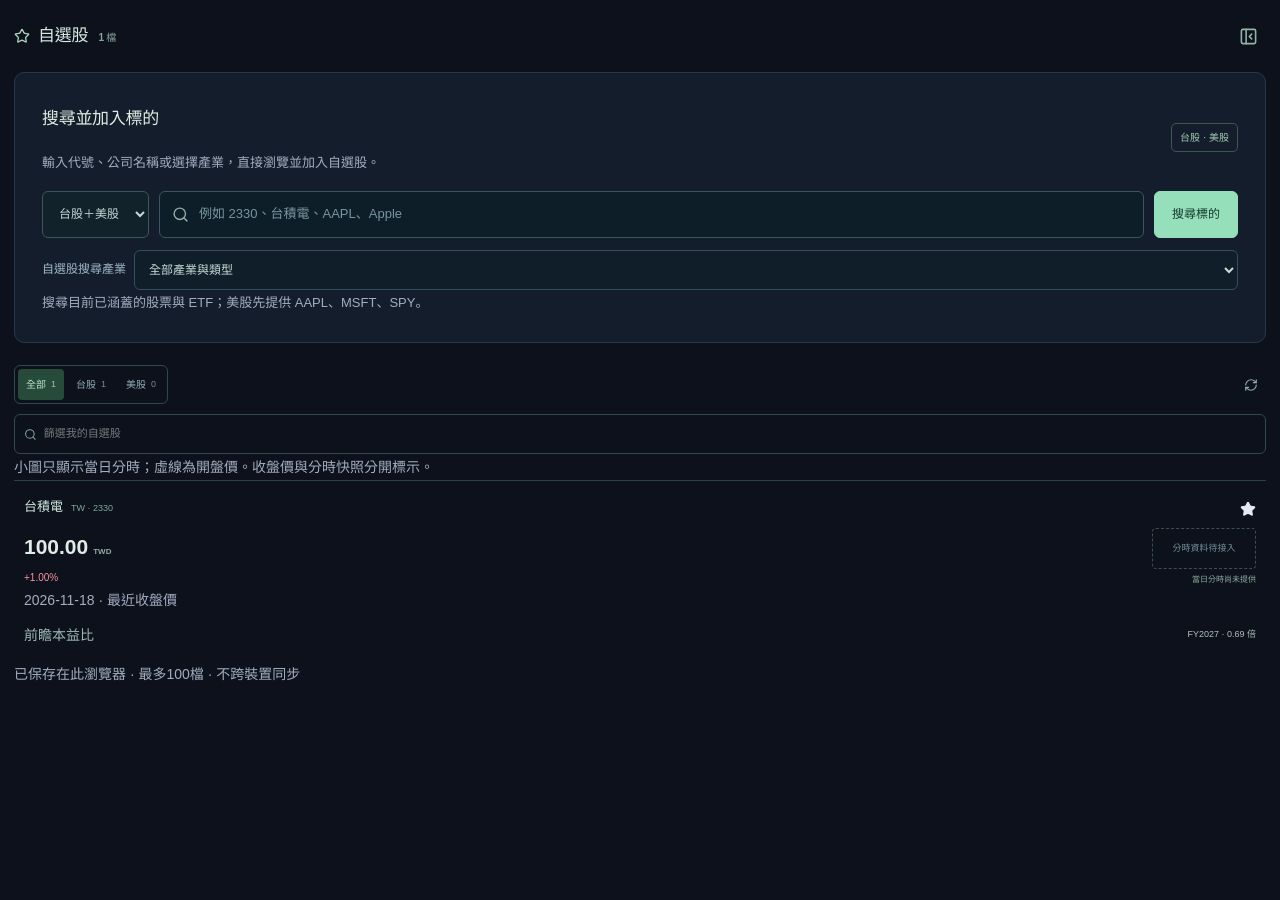
keeps original dates and visible items when a refresh fails
The width and height of the screenshot is (1280, 900).
What coordinates should you click on to do the following:
click the button named "重新整理自選股資料"
I would click on:
 (1251, 385)
Its box is [1236,371,1266,399].
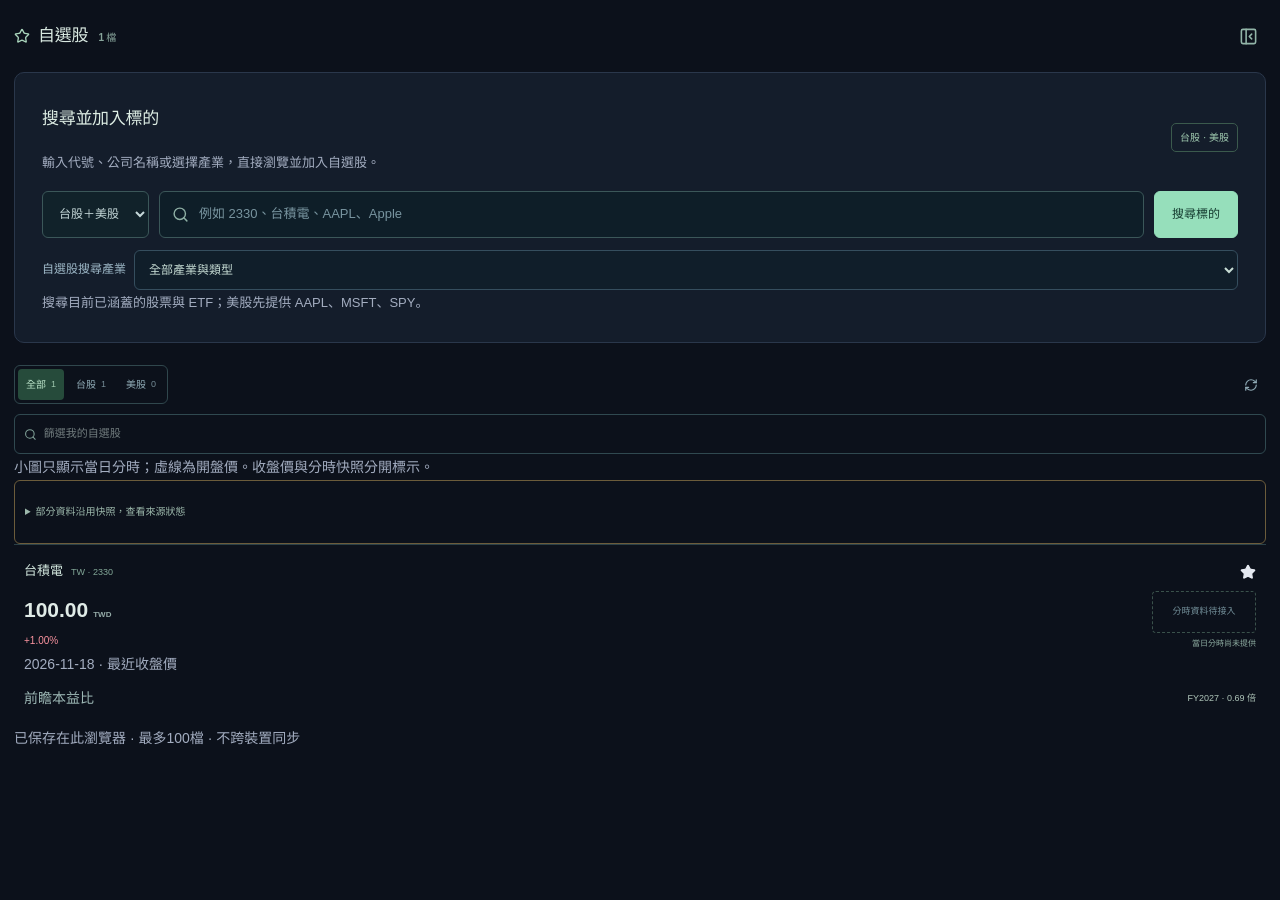
Expected: the list item shows "2026-11-18", [24,656,95,672]
Expected: the heading "部分資料沿用快照，查看來源狀態" is shown, [36,506,186,517]
